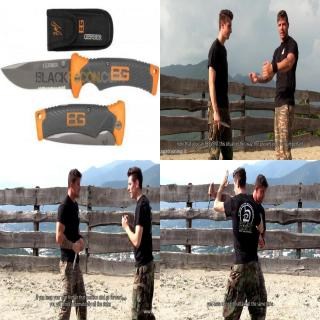knife: (0, 52, 159, 104), (211, 114, 231, 130), (71, 242, 80, 270), (206, 180, 213, 213)
